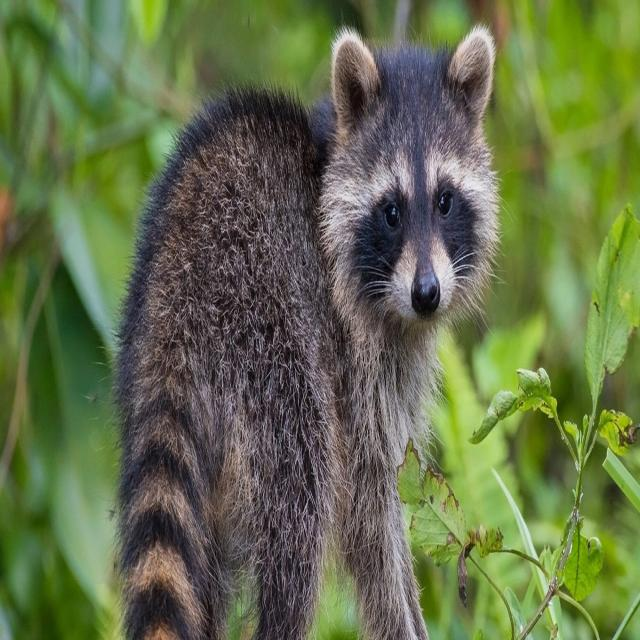Raccoon: (110, 19, 508, 640)
